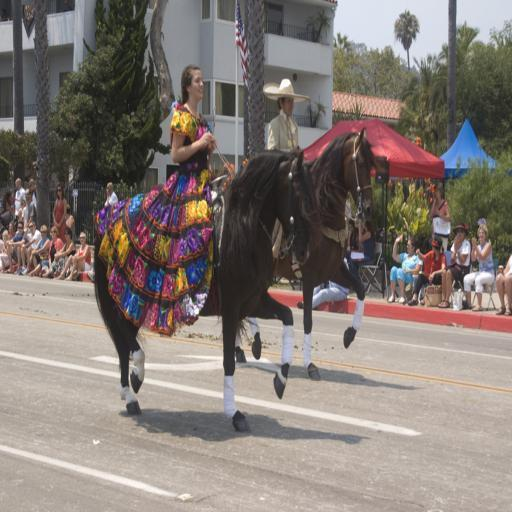horse: (94, 143, 314, 436), (234, 126, 378, 383)
